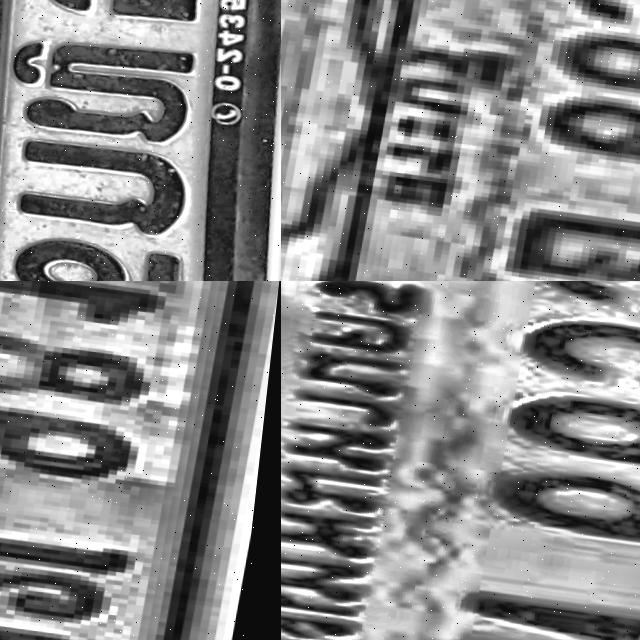license-plate: (281, 281, 640, 640), (281, 0, 640, 281), (0, 281, 245, 640), (0, 0, 281, 281)
